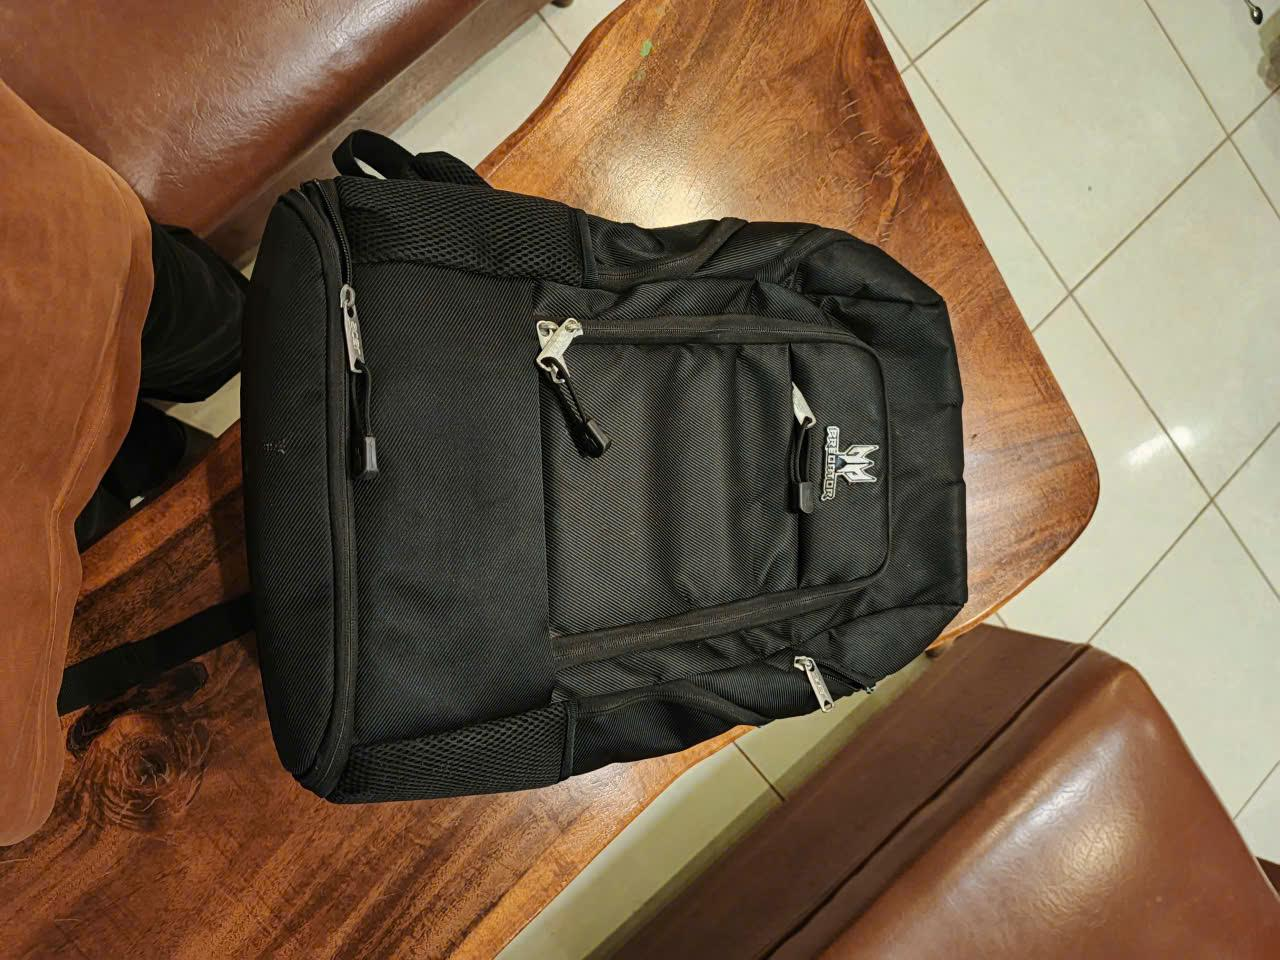Con lai: (246, 166, 971, 802)
